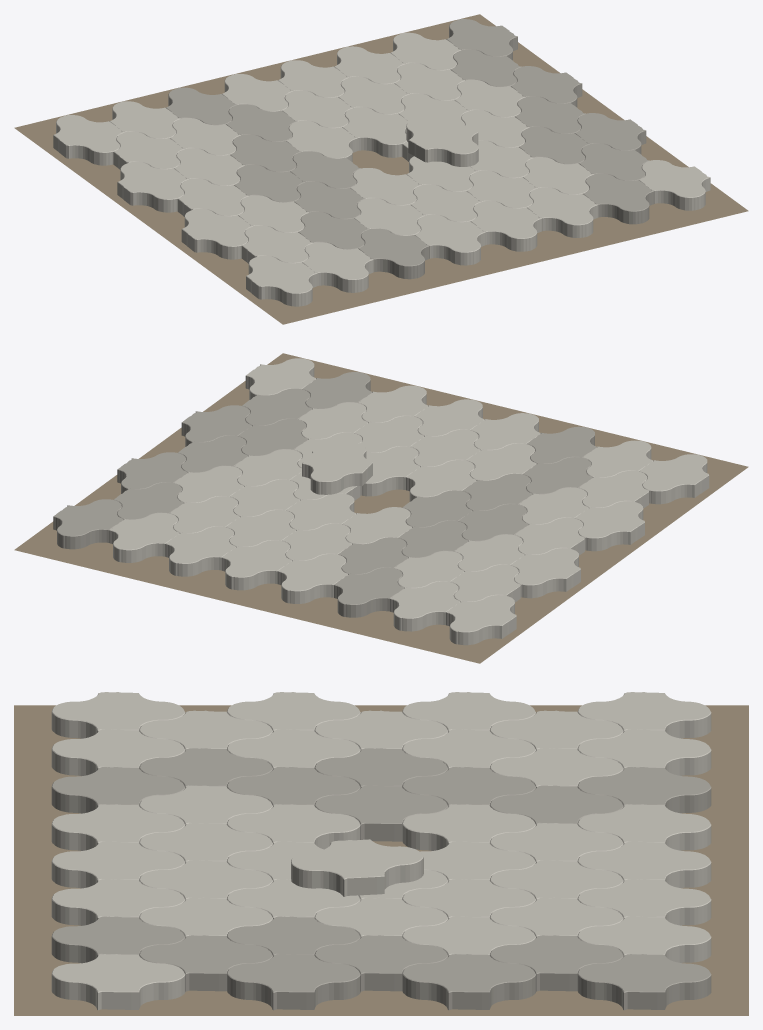
File: terilgan.glb
3 views of the same model, one above another, from view 1: azimuth 30°, elevation 25°; view 2: azimuth 150°, elevation 25°; view 3: azimuth 270°, elevation 25° (orthographic). The views are drawn at different scales.
Parts seen in each view (by area): view 1: qum, t.026, t.009, t.001, t.004, t, t.044, t.052, t.016, t.023, t.030, t.049 (+41 smaller); view 2: qum, t, t.026, t.009, t.001, t.004, t.022, t.015, t.029, t.003, t.036, t.043 (+42 smaller); view 3: qum, t.043, t.052, t.048, t.051, t.026, t.047, t.029, t, t.009, t.019, t.036 (+42 smaller).
Boxes of the visible parts, box(x1,y1,x2,y2) form: qum: box(14, 14, 748, 324); t.026: box(406, 119, 478, 166); t.009: box(246, 256, 317, 306); t.001: box(117, 162, 188, 212); t.004: box(181, 209, 252, 259); t: box(53, 115, 124, 165); t.044: box(526, 187, 598, 237); t.052: box(639, 160, 710, 210); t.016: box(302, 242, 373, 292); t.023: box(358, 228, 429, 279); t.030: box(414, 214, 485, 265); t.049: box(583, 173, 654, 224); qum: box(14, 353, 748, 663); t: box(446, 595, 516, 645); t.026: box(302, 443, 372, 494); t.009: box(639, 454, 709, 504); t.001: box(510, 548, 580, 598); t.004: box(575, 501, 644, 551); t.022: box(221, 540, 291, 590); t.015: box(277, 554, 347, 603); t.029: box(165, 526, 235, 576); t.003: box(390, 581, 460, 631); t.036: box(109, 513, 179, 562); t.043: box(53, 499, 123, 549); qum: box(14, 705, 748, 1015); t.043: box(577, 954, 711, 1010); t.052: box(51, 954, 185, 1010); t.048: box(402, 954, 535, 1010); t.051: box(227, 954, 360, 1010); t.026: box(291, 839, 423, 896); t.047: box(314, 935, 448, 991); t.029: box(577, 879, 711, 925); t: box(577, 692, 711, 738); t.009: box(51, 692, 185, 738); t.019: box(314, 785, 448, 841); t.036: box(577, 916, 711, 962).
Bounding box in the file's own units: 1.66 × 0.092 × 1.66.
